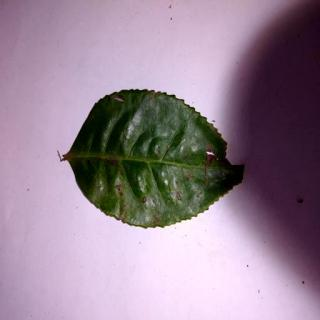Bird Eye Spot: (66, 91, 246, 229)
